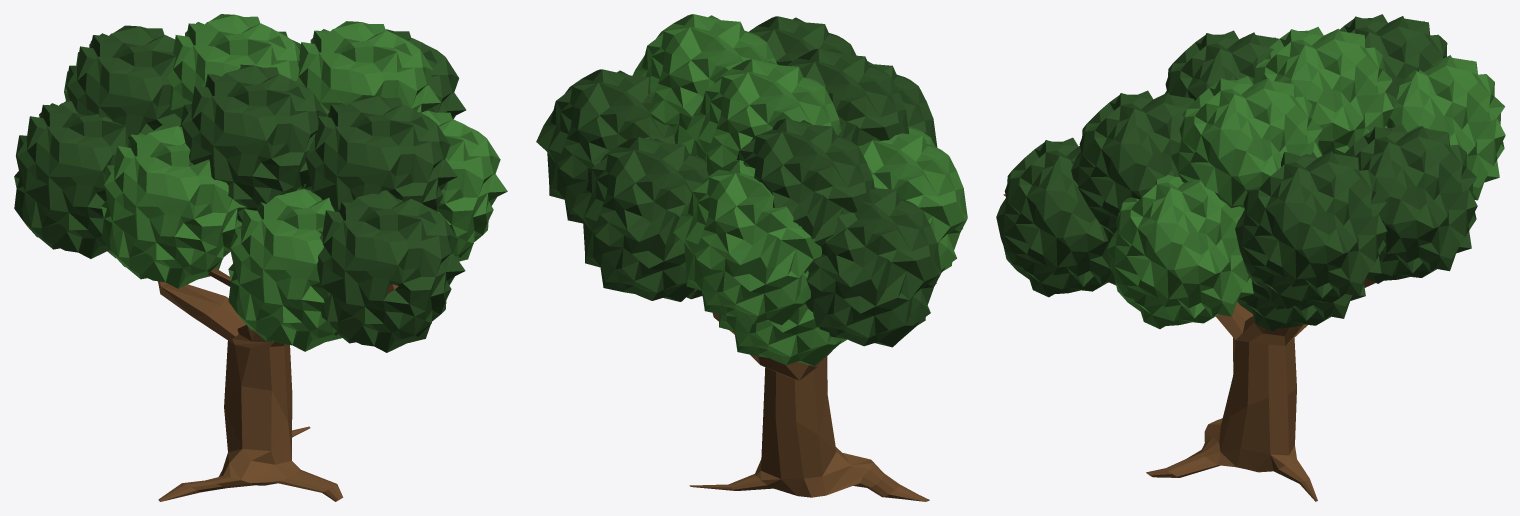
Rendered from tree2.gltf.
3 views of the same model, side by side, from view 1: azimuth 30°, elevation 25°; view 2: azimuth 150°, elevation 25°; view 3: azimuth 270°, elevation 25° (orthographic). The views are drawn at different scales.
Parts seen in each view (by area): view 1: LowPoly Tree .026; view 2: LowPoly Tree .026; view 3: LowPoly Tree .026.
Boxes of the visible parts, left/top/right/bottom form: LowPoly Tree .026: left=14, top=14, right=507, bottom=501; LowPoly Tree .026: left=536, top=14, right=967, bottom=501; LowPoly Tree .026: left=996, top=14, right=1505, bottom=501.
Bounding box in the file's own units: 2.27 × 2.28 × 2.44.
